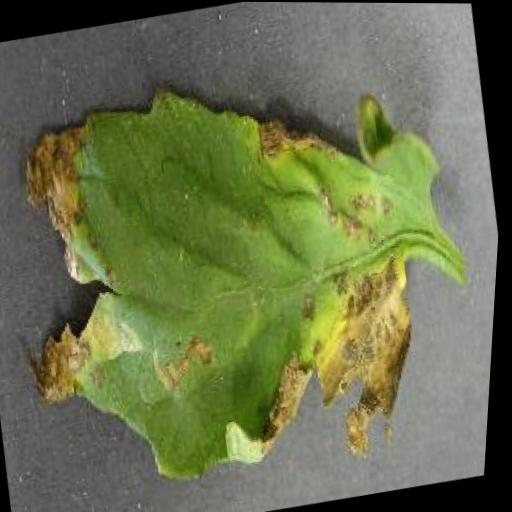Bacterial Spot: (0, 32, 509, 512)
